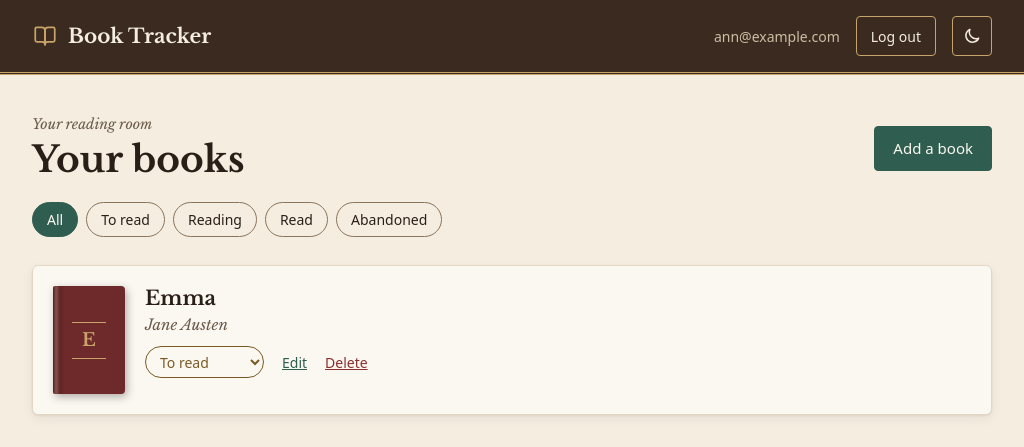
it: changing the status › shows the API error on the book
Select "Reading" in the dropdown at {"x": 204, "y": 362}, box [145,346,264,378]
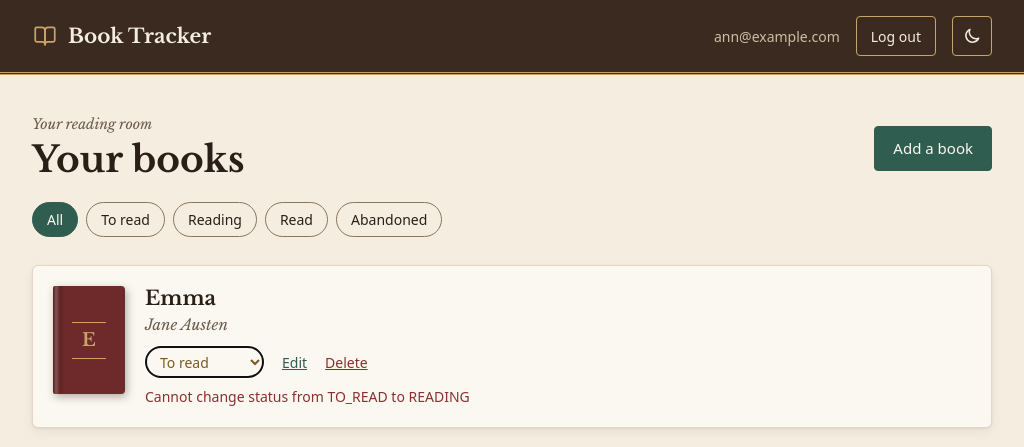
Expected: the message reads "Cannot change status from TO_READ to READING", [145,387,470,406]
